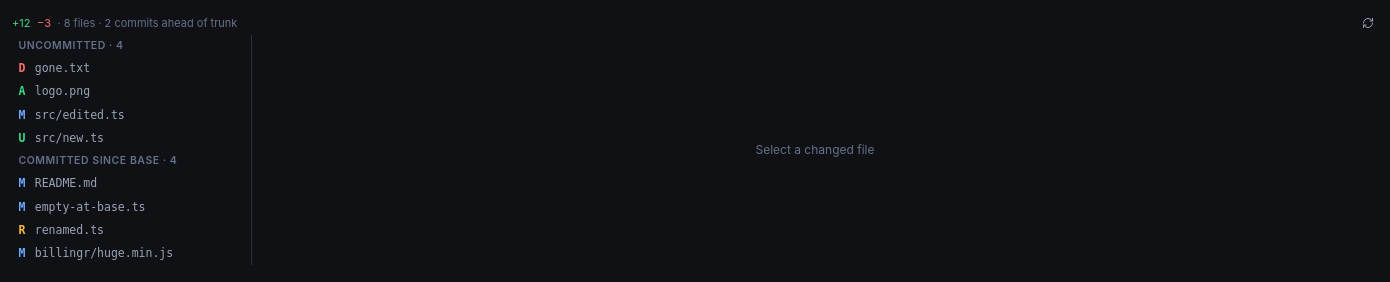
it: auto-refresh (spec §12.5) › does not re-open a file by itself when it comes BACK into the change set
This screenshot has width=1390, height=282.
Click the option "M src/edited.ts": (132, 115) [12,104,251,127]
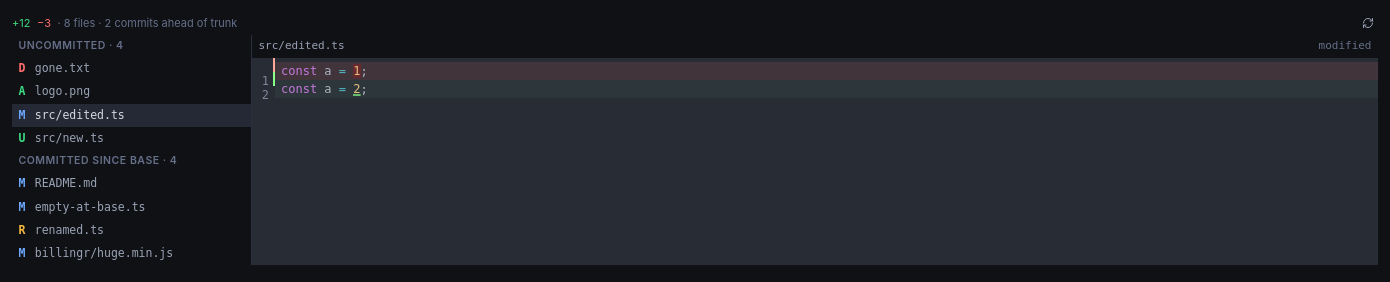
Click the button titled "Refresh": (1368, 23) [1358,14,1378,33]
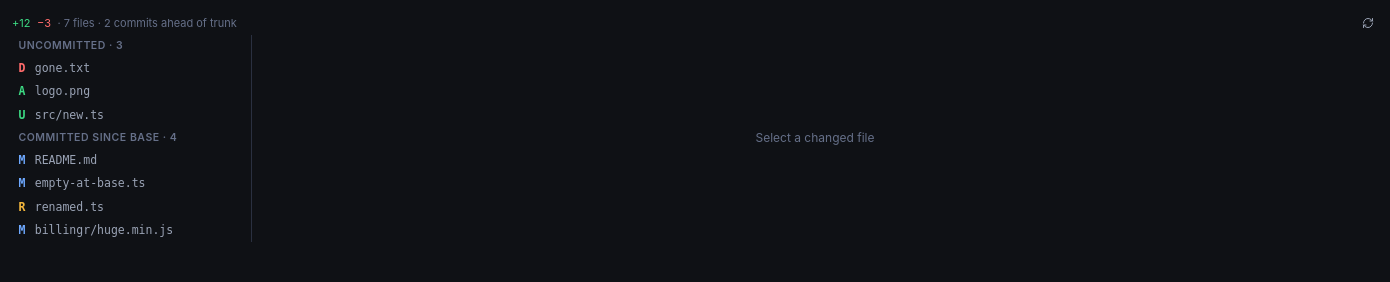
Expected: the text "Select a changed file" is shown, [756,130,874,145]
Click the button titled "Refresh": (1368, 23) [1358,14,1378,33]
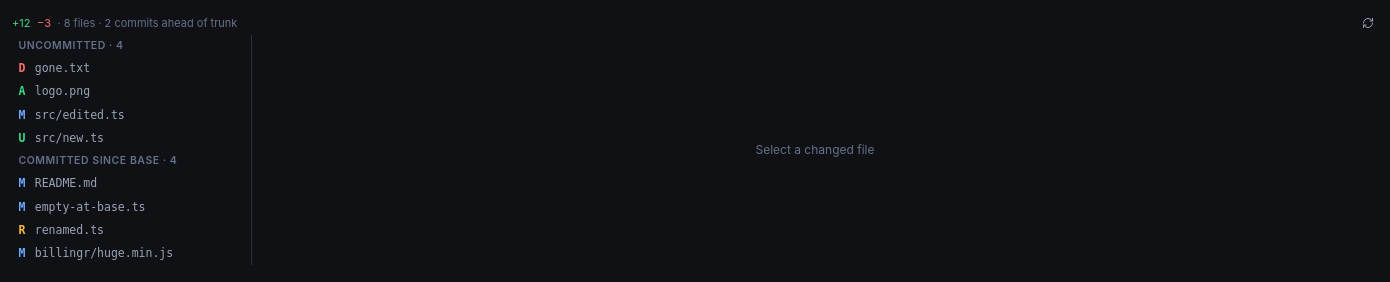
Expected: the text "Select a changed file" is shown, [756,142,874,157]
Expected: the text "src/edited.ts" is shown, [35,106,125,124]
